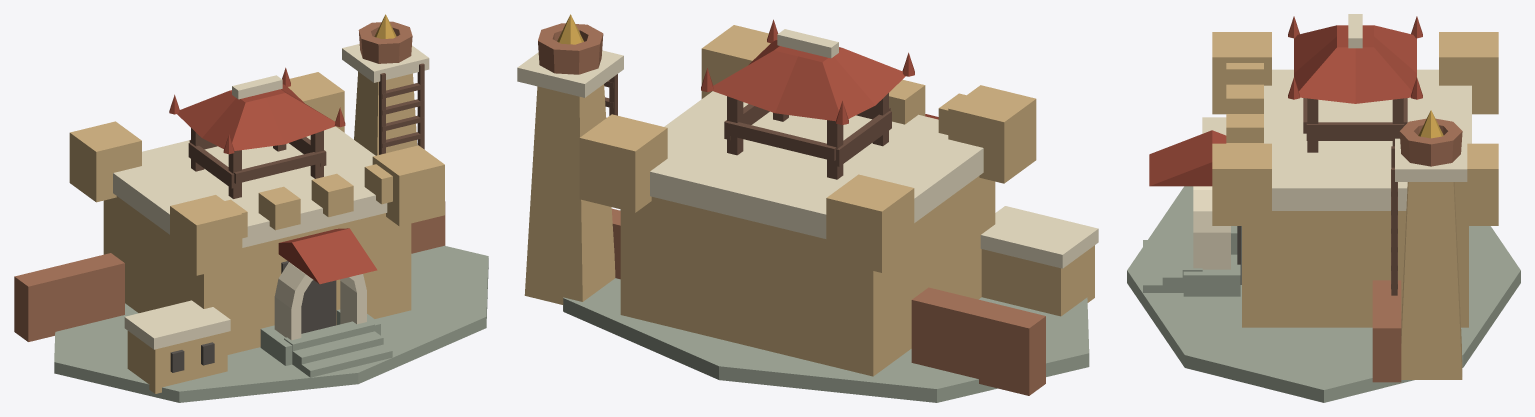
Rendered from yumenguan.glb.
The picture shows the model from 3 angles, left to right: view 1: azimuth 30°, elevation 25°; view 2: azimuth 150°, elevation 25°; view 3: azimuth 270°, elevation 25°; orthographic projection. The views are drawn at different scales.
Visible parts, largest first — view 1: yumenguan_sandstone, yumenguan_stone, yumenguan_cream, yumenguan_roof_red, yumenguan_brick, yumenguan_dark_wood, yumenguan_deep_shadow; view 2: yumenguan_sandstone, yumenguan_cream, yumenguan_stone, yumenguan_brick, yumenguan_roof_red, yumenguan_dark_wood; view 3: yumenguan_sandstone, yumenguan_stone, yumenguan_cream, yumenguan_roof_red, yumenguan_brick, yumenguan_dark_wood, yumenguan_gold.
Part boxes in pixels (x1=…): yumenguan_sandstone: x1=69, y1=71, x2=444, y2=393; yumenguan_stone: x1=54, y1=245, x2=488, y2=402; yumenguan_cream: x1=113, y1=44, x2=429, y2=349; yumenguan_roof_red: x1=169, y1=67, x2=377, y2=284; yumenguan_brick: x1=14, y1=21, x2=445, y2=341; yumenguan_dark_wood: x1=188, y1=63, x2=424, y2=198; yumenguan_deep_shadow: x1=170, y1=261, x2=336, y2=372; yumenguan_sandstone: x1=524, y1=25, x2=1094, y2=376; yumenguan_cream: x1=517, y1=29, x2=1098, y2=268; yumenguan_stone: x1=563, y1=210, x2=1089, y2=402; yumenguan_brick: x1=538, y1=23, x2=1045, y2=395; yumenguan_roof_red: x1=701, y1=19, x2=938, y2=124; yumenguan_dark_wood: x1=604, y1=74, x2=891, y2=179; yumenguan_sandstone: x1=1212, y1=32, x2=1498, y2=379; yumenguan_stone: x1=1127, y1=186, x2=1520, y2=402; yumenguan_cream: x1=1193, y1=14, x2=1471, y2=269; yumenguan_roof_red: x1=1149, y1=16, x2=1422, y2=186; yumenguan_brick: x1=1372, y1=118, x2=1462, y2=382; yumenguan_dark_wood: x1=1303, y1=98, x2=1407, y2=295; yumenguan_gold: x1=1418, y1=110, x2=1443, y2=138.
Bounding box in the file's own units: 2.1 × 1.07 × 1.46.
